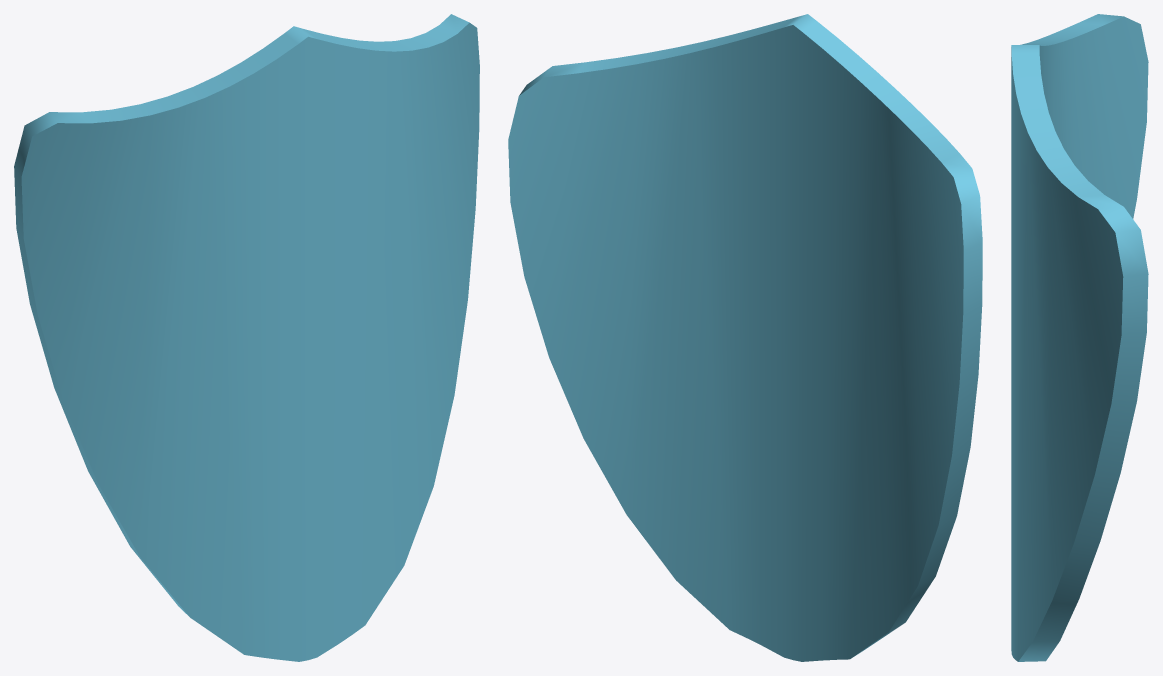
File: Armor1.FBX
The picture shows the model from 3 angles, left to right: view 1: azimuth 30°, elevation 25°; view 2: azimuth 150°, elevation 25°; view 3: azimuth 270°, elevation 25°; orthographic projection. The views are drawn at different scales.
Visible parts, largest first — view 1: Armor1; view 2: Armor1; view 3: Armor1.
Boxes of the visible parts, <box> form: Armor1: <box>14,14,479,661</box>; Armor1: <box>508,14,982,661</box>; Armor1: <box>1011,14,1148,661</box>.
Bounding box in the file's own units: 0.8643 × 1.12 × 0.2305.
